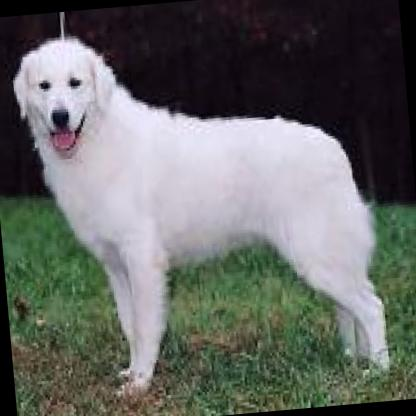kuvasz: (3, 8, 394, 416)
